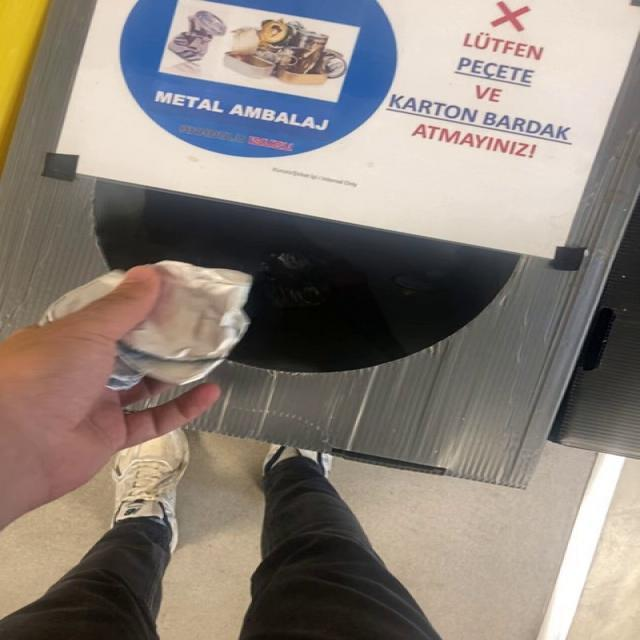Bin: (3, 0, 640, 488)
Metal: (108, 261, 252, 390), (40, 271, 125, 324)
